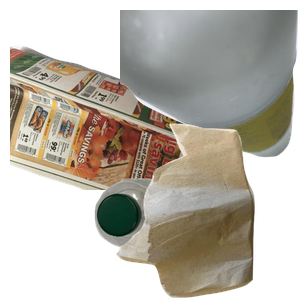glass: (120, 10, 300, 160)
paper: (10, 42, 224, 222)
plastic: (92, 176, 257, 300)
trash: (114, 121, 300, 300)
